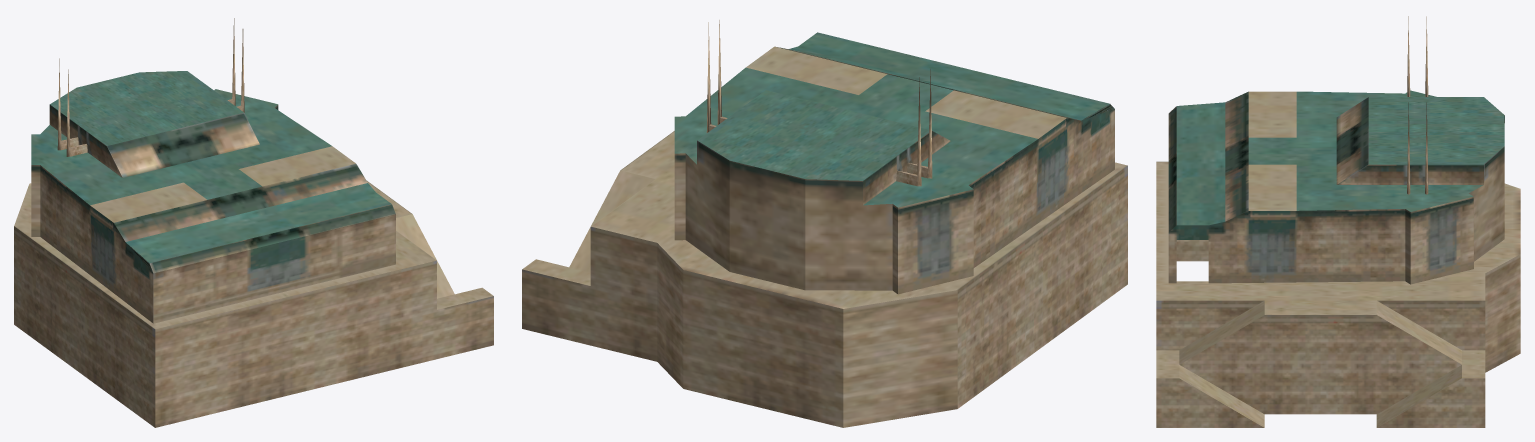
The model's file is ply_nboo_hospital_s01_r0_exterior_mesh_l2.fbx.
The picture shows the model from 3 angles, left to right: view 1: azimuth 30°, elevation 25°; view 2: azimuth 150°, elevation 25°; view 3: azimuth 270°, elevation 25°; orthographic projection. The views are drawn at different scales.
Parts seen in each view (by area): view 1: mesh_node; view 2: mesh_node; view 3: mesh_node.
Boxes of the visible parts, x1=… form: mesh_node: x1=14, y1=18, x2=493, y2=427; mesh_node: x1=522, y1=20, x2=1127, y2=427; mesh_node: x1=1156, y1=16, x2=1520, y2=427.
Size of the model in its own units: 24.65 by 18.35 by 22.78.
